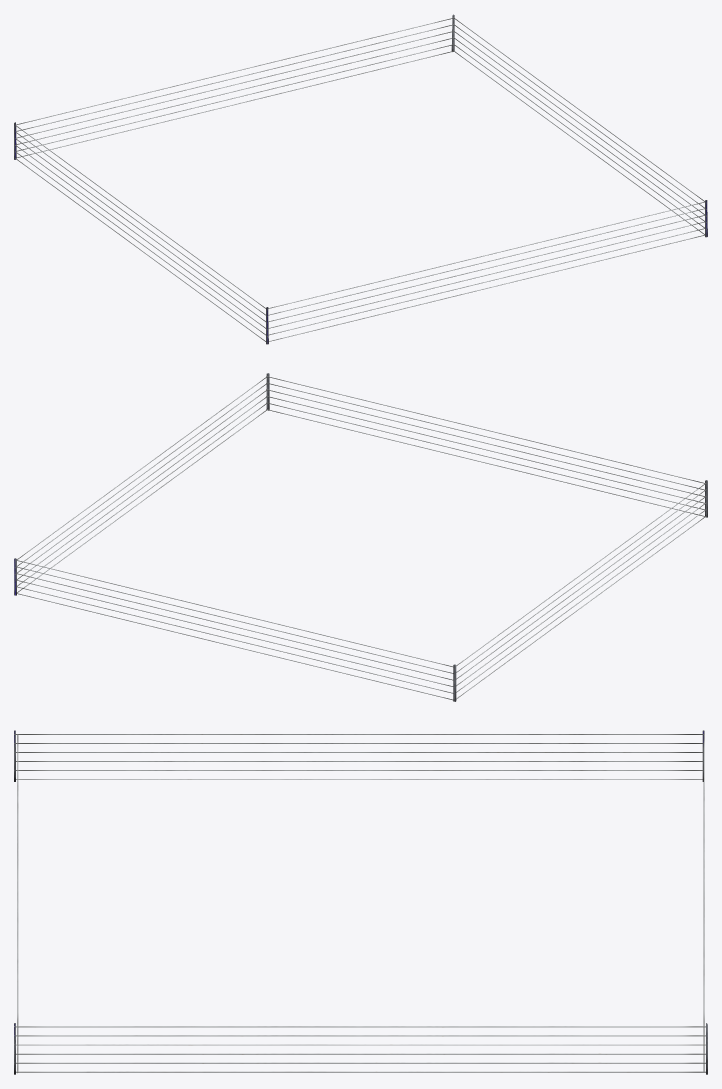
Rendered from fence.fbx.
3 renders of one model, top to bottom at view 1: azimuth 30°, elevation 25°; view 2: azimuth 150°, elevation 25°; view 3: azimuth 270°, elevation 25°, orthographic. The views are drawn at different scales.
Parts seen in each view (by area): view 1: Fence; view 2: Fence; view 3: Fence.
Part boxes in pixels (x1,y1,x2,y2): Fence: (14,14,707,344); Fence: (14,373,707,701); Fence: (14,730,707,1074).
Bounding box in the file's own units: 3167 × 255 × 3159.
1 material, 1 textured.
